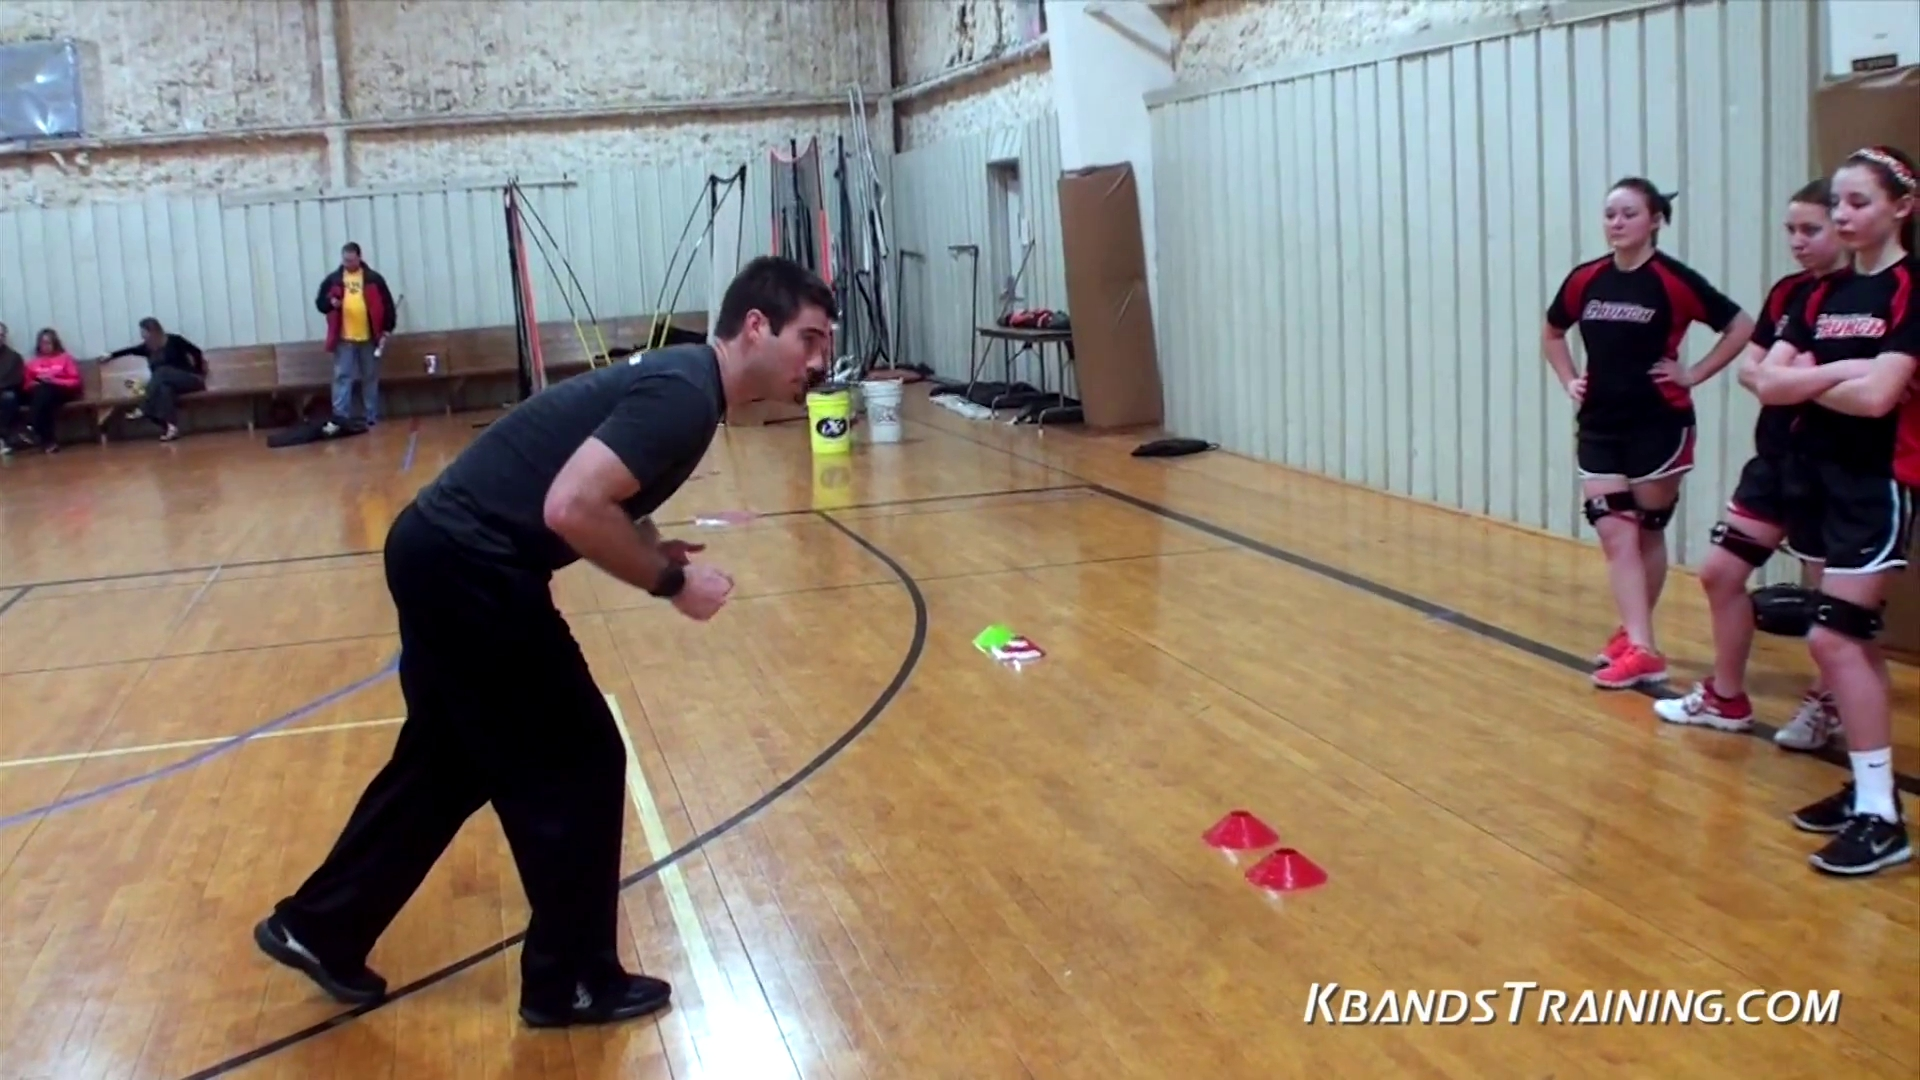person: (254, 256, 831, 1026), (1653, 179, 1848, 751), (1538, 179, 1754, 689), (1791, 146, 1920, 882)
